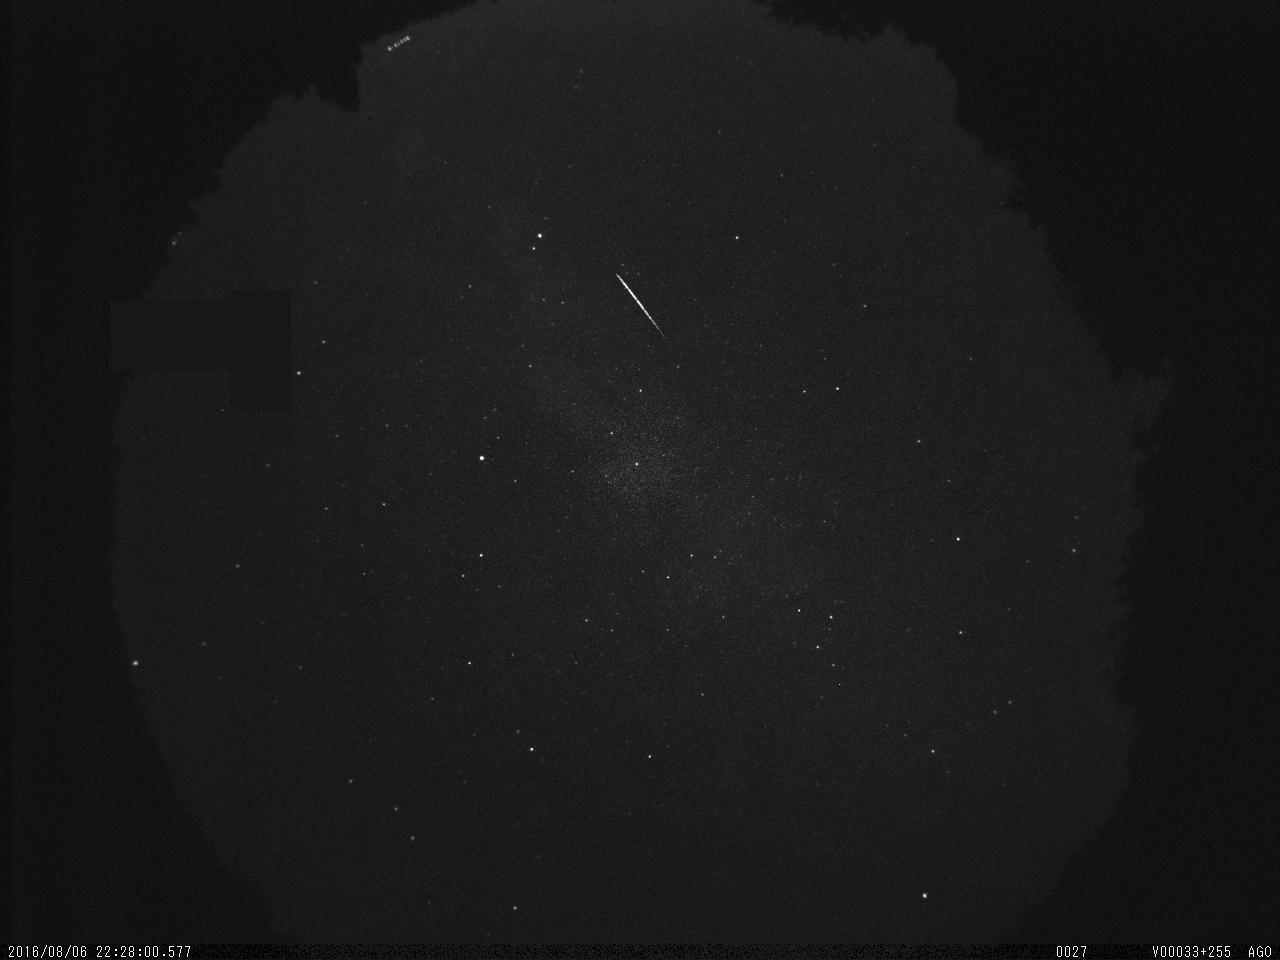meteor: (604, 261, 674, 344)
satelite: (381, 27, 413, 56)
